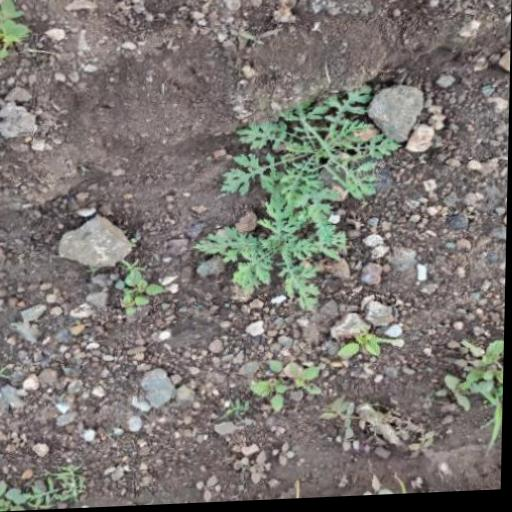weed: (206, 98, 398, 319)
